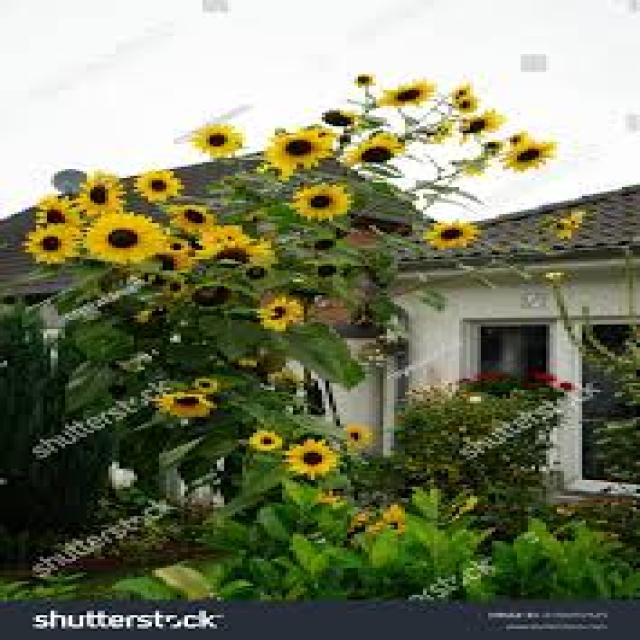sunflower: (79, 210, 170, 266), (257, 130, 339, 170), (21, 222, 87, 266), (201, 240, 284, 274), (285, 183, 354, 221), (78, 170, 130, 220), (185, 121, 249, 158), (494, 137, 559, 173), (368, 80, 441, 112), (421, 216, 484, 252), (287, 437, 340, 479), (31, 190, 83, 230), (453, 105, 510, 140), (254, 296, 306, 334), (344, 137, 407, 168), (157, 390, 221, 420), (136, 168, 188, 204), (169, 202, 221, 236), (190, 224, 256, 250), (188, 282, 235, 312), (376, 505, 411, 537), (314, 107, 362, 128), (246, 428, 282, 452), (336, 422, 370, 446), (501, 128, 536, 148), (240, 263, 273, 284), (314, 262, 346, 283), (565, 208, 591, 233), (254, 165, 292, 181), (444, 96, 484, 111), (158, 237, 193, 254), (447, 80, 477, 99), (351, 73, 380, 91), (310, 237, 342, 253), (165, 280, 190, 298), (553, 218, 572, 239), (190, 378, 217, 392), (478, 138, 501, 154)
